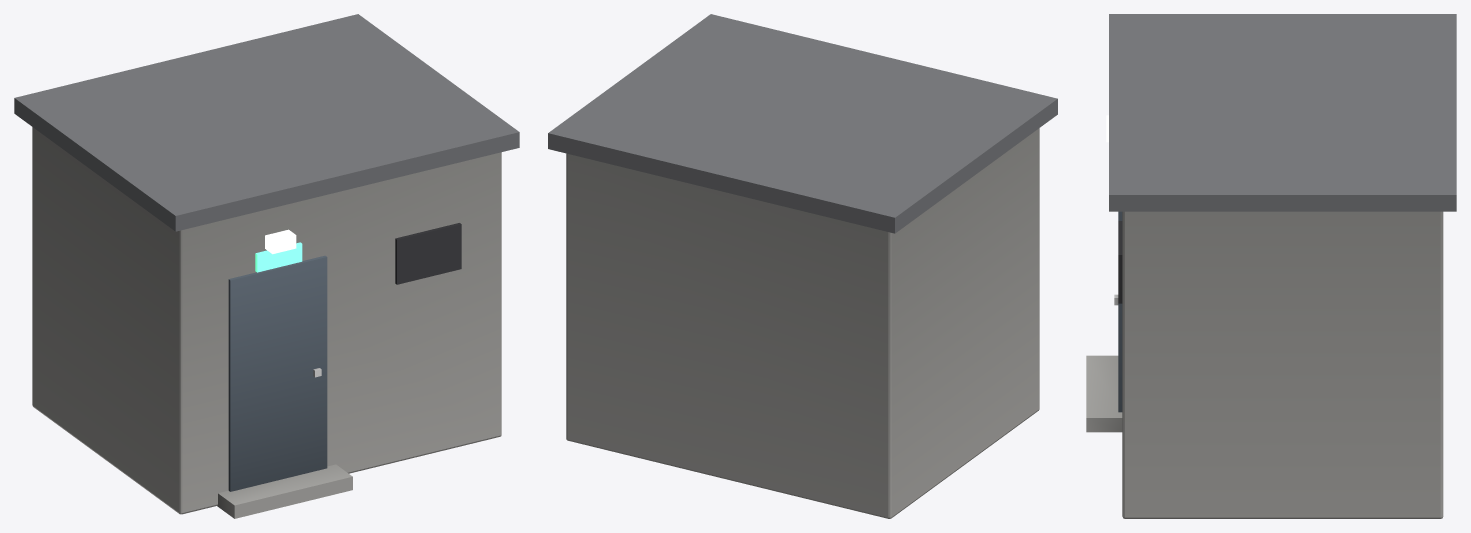
The model's file is bd_stair.glb.
3 renders of one model, left to right at view 1: azimuth 30°, elevation 25°; view 2: azimuth 150°, elevation 25°; view 3: azimuth 270°, elevation 25°, orthographic. The views are drawn at different scales.
Visible parts, largest first — view 1: body; view 2: body; view 3: body.
Boxes of the visible parts, bbox=[...] form: body: bbox=[14, 14, 519, 518]; body: bbox=[548, 14, 1057, 518]; body: bbox=[1086, 14, 1456, 518].
Size of the model in its own units: 3.2 by 2.73 by 2.77.
